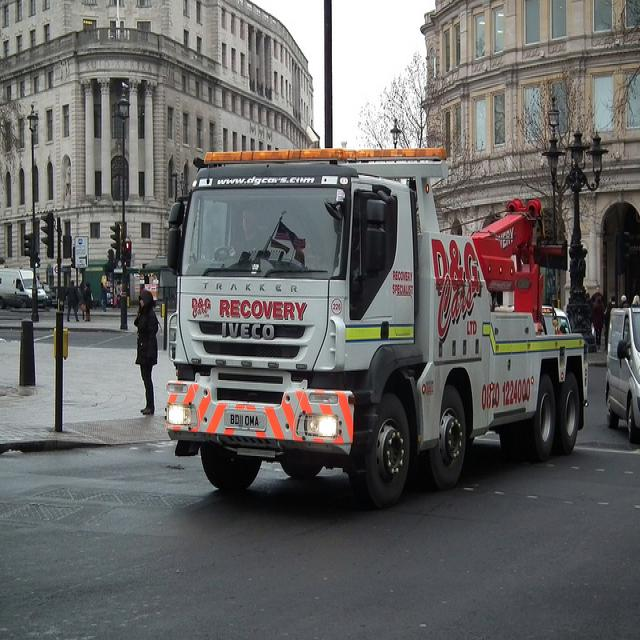Vehicle: (172, 156, 588, 473), (606, 311, 640, 435), (0, 268, 50, 304)
